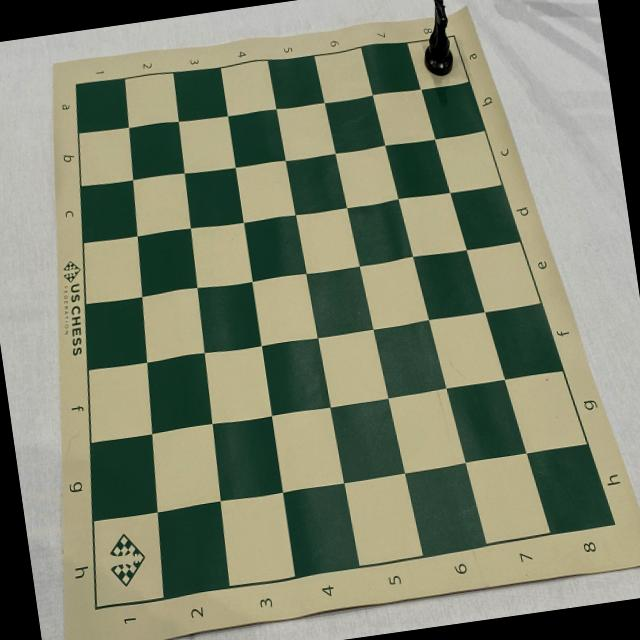black-knight: (416, 0, 457, 79)
